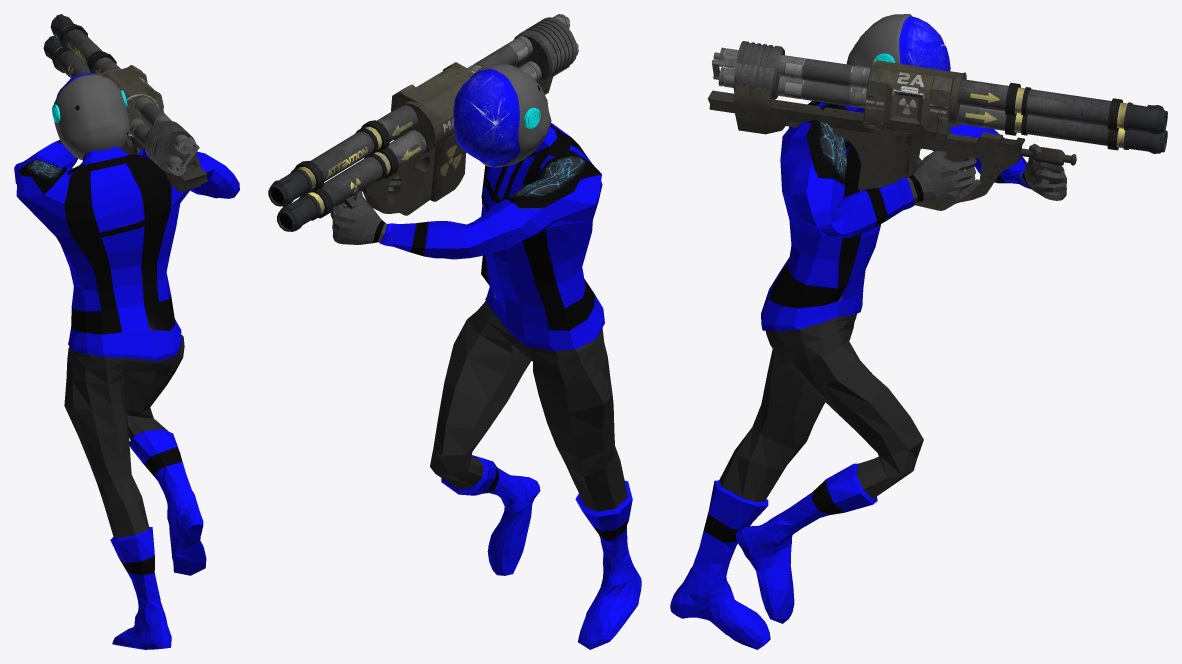
3 renders of one model, left to right at view 1: azimuth 30°, elevation 25°; view 2: azimuth 150°, elevation 25°; view 3: azimuth 270°, elevation 25°, orthographic. The views are drawn at different scales.
Parts seen in each view (by area): view 1: Brazos2, Piernas1, group1_polySurface5, Cabeza1; view 2: Piernas1, Brazos2, group1_polySurface5, Cabeza1; view 3: group1_polySurface5, Piernas1, Brazos2, Cabeza1.
Boxes of the visible parts, x1=… form: Brazos2: x1=14, y1=135, x2=239, y2=361; Piernas1: x1=64, y1=335, x2=206, y2=649; group1_polySurface5: x1=43, y1=14, x2=207, y2=192; Cabeza1: x1=52, y1=73, x2=129, y2=160; Piernas1: x1=430, y1=301, x2=641, y2=649; Brazos2: x1=330, y1=122, x2=604, y2=351; group1_polySurface5: x1=268, y1=14, x2=578, y2=231; Cabeza1: x1=453, y1=64, x2=551, y2=167; group1_polySurface5: x1=707, y1=41, x2=1167, y2=210; Piernas1: x1=670, y1=314, x2=923, y2=649; Brazos2: x1=761, y1=101, x2=1066, y2=331; Cabeza1: x1=846, y1=14, x2=950, y2=108.
Size of the model in its own units: 68.04 by 174 by 123.
